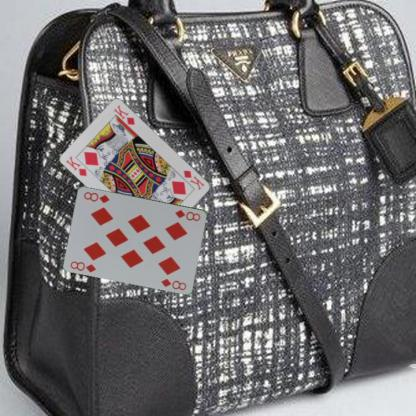8d: (68, 258, 97, 274), (172, 207, 202, 222)
Kd: (181, 168, 206, 191), (63, 154, 88, 177)
